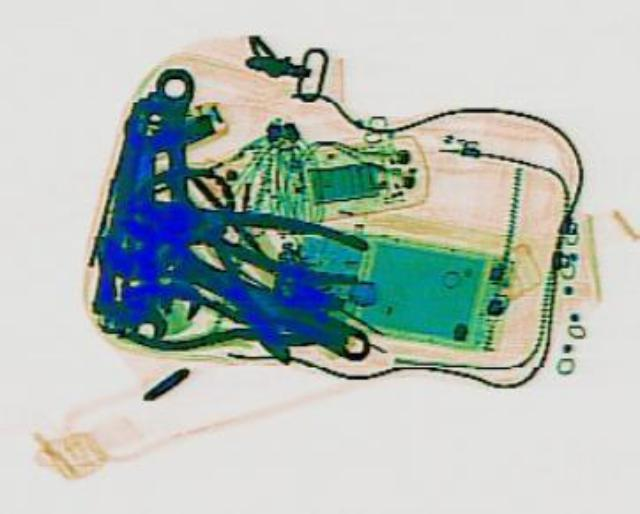Pliers: (134, 179, 373, 289)
Wrench: (83, 205, 389, 373), (150, 65, 200, 317), (122, 96, 164, 337)
